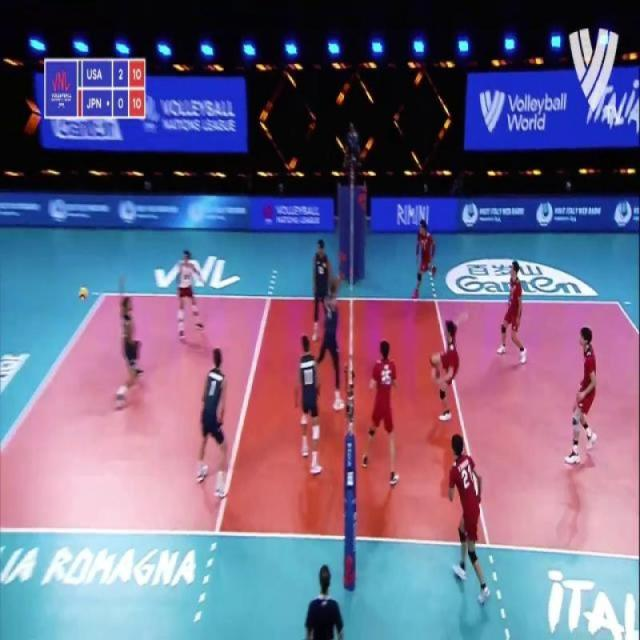volleyball: (78, 285, 88, 301)
